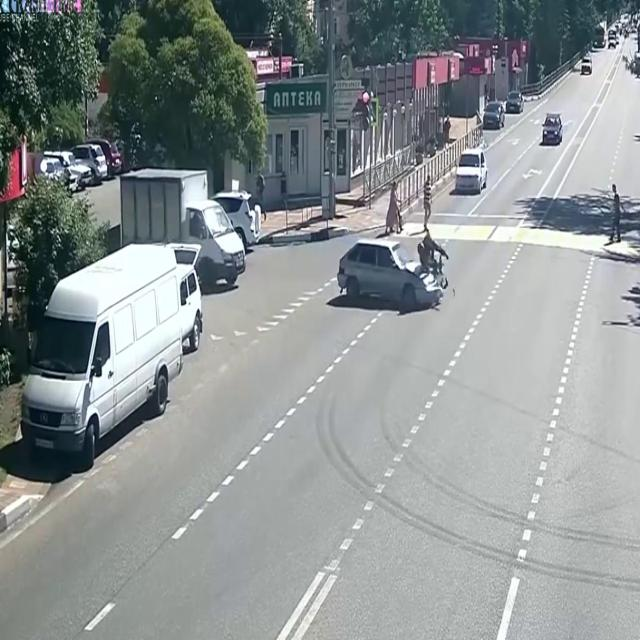accident: (328, 212, 454, 328)
non_accident: (2, 134, 263, 481)
